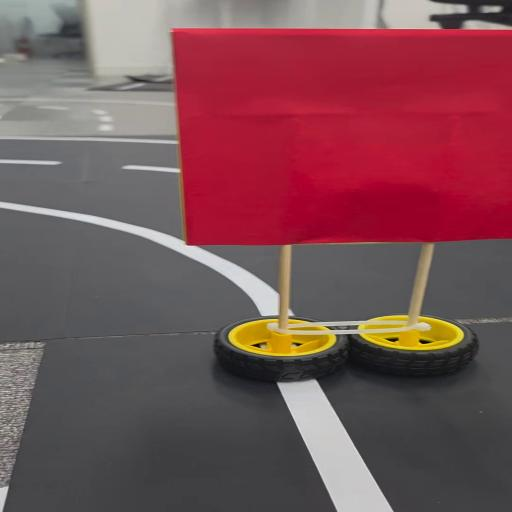Sign_A: (185, 27, 512, 389)
